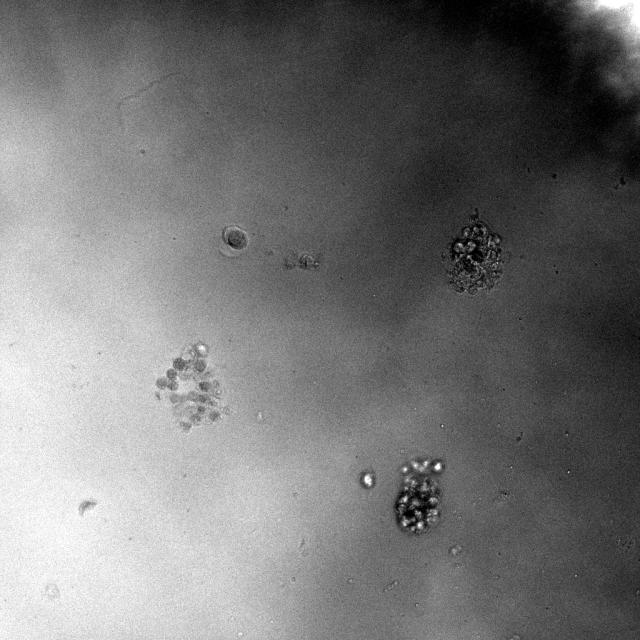organoid: (155, 341, 229, 431), (440, 208, 503, 294), (395, 458, 442, 534), (282, 250, 320, 271), (222, 225, 248, 250), (359, 469, 376, 489)
